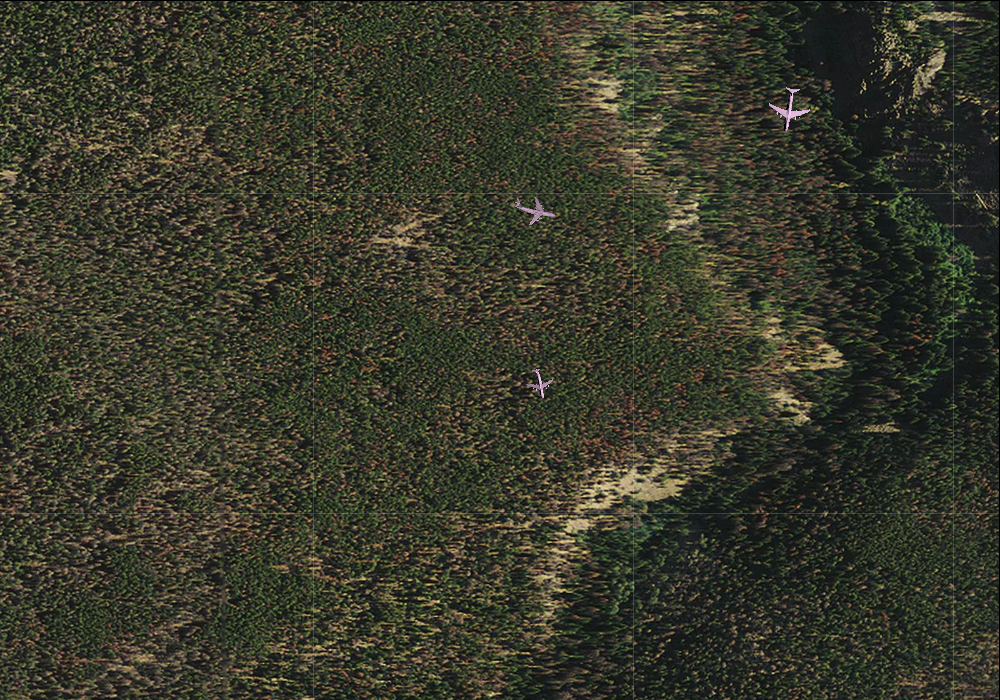plane: (765, 83, 813, 135), (510, 187, 559, 231), (522, 365, 556, 401)
